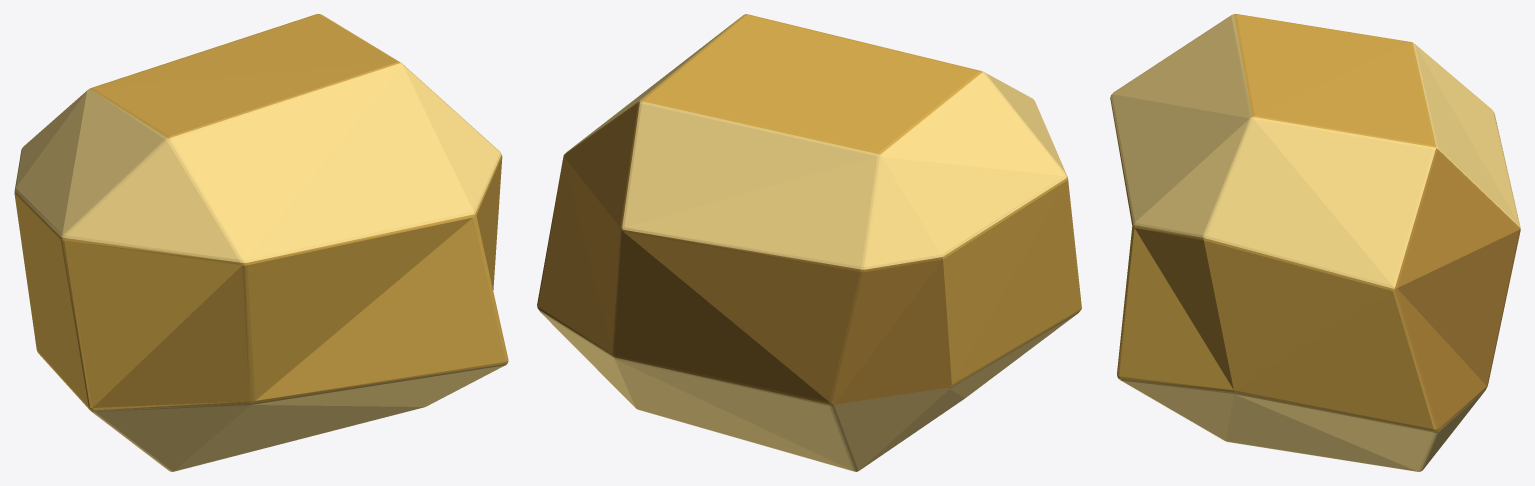
Rendered from gold.glb.
The picture shows the model from 3 angles, left to right: view 1: azimuth 30°, elevation 25°; view 2: azimuth 150°, elevation 25°; view 3: azimuth 270°, elevation 25°; orthographic projection. The views are drawn at different scales.
Visible parts, largest first — view 1: Gold_Reserve_1000; view 2: Gold_Reserve_1000; view 3: Gold_Reserve_1000.
Boxes of the visible parts, <box> form: Gold_Reserve_1000: <box>14,14,508,471</box>; Gold_Reserve_1000: <box>537,14,1081,471</box>; Gold_Reserve_1000: <box>1110,14,1520,471</box>.
Size of the model in its own units: 2.17 by 1.61 by 1.74.
